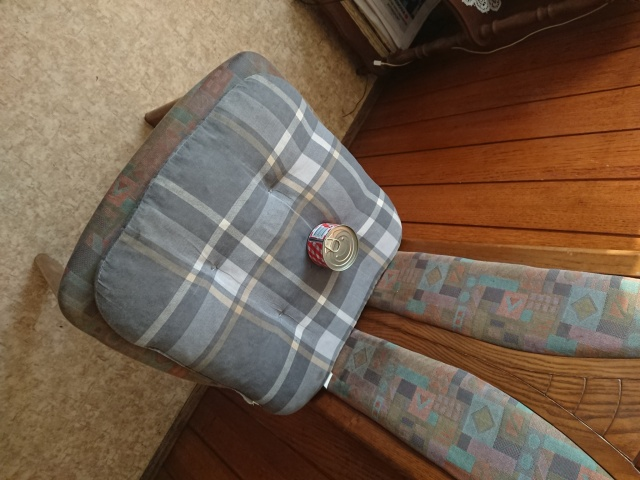Podravka Luncheon Meat 150g: (305, 220, 361, 273)
